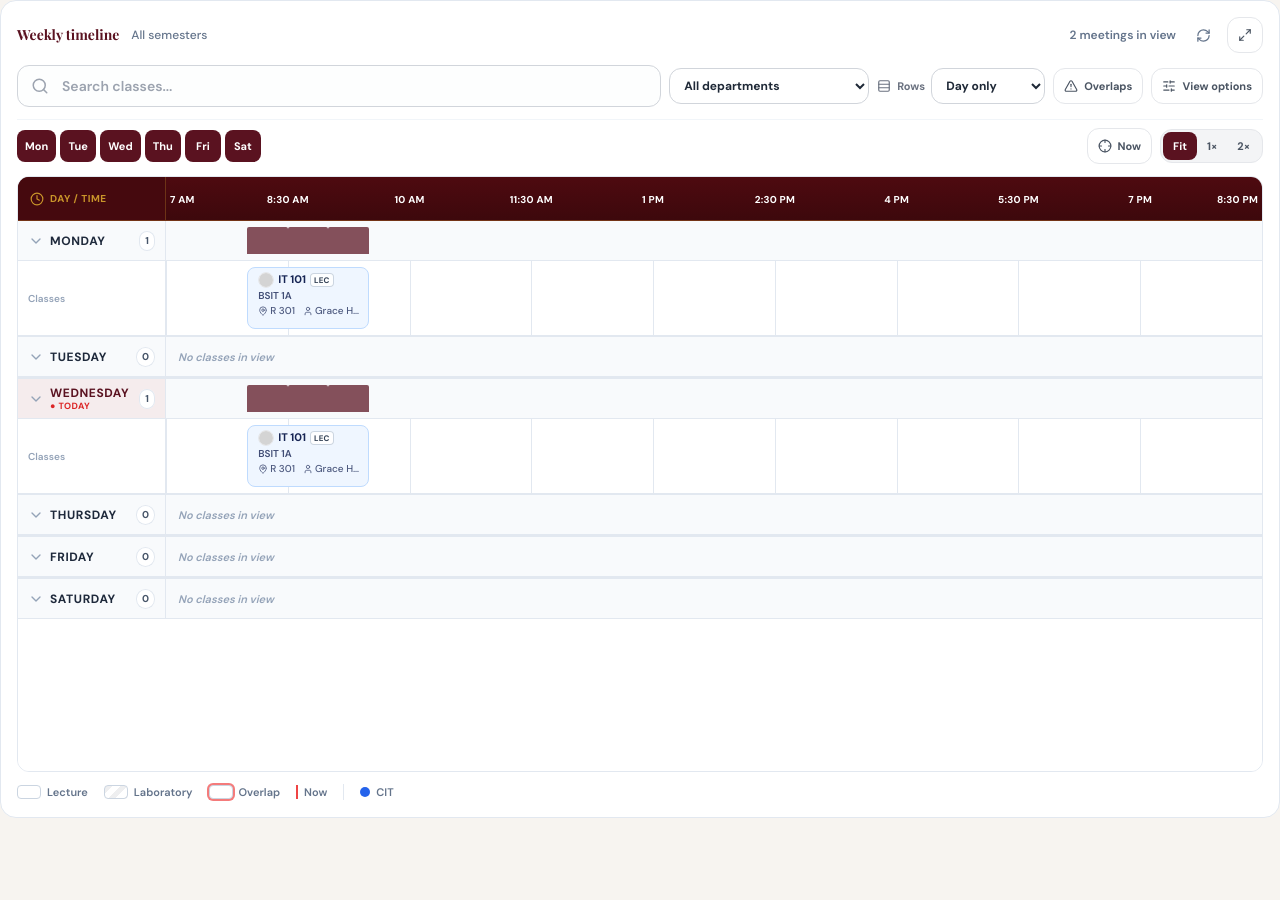
Test: VpaaCalendarPage Gantt timeline › opens the detail view with the other weekly meetings of the class
Click the 1st button "IT 101 Lec BSIT 1A R 301 Grace Hopper".
click(308, 298)  # box [247,267,369,329]
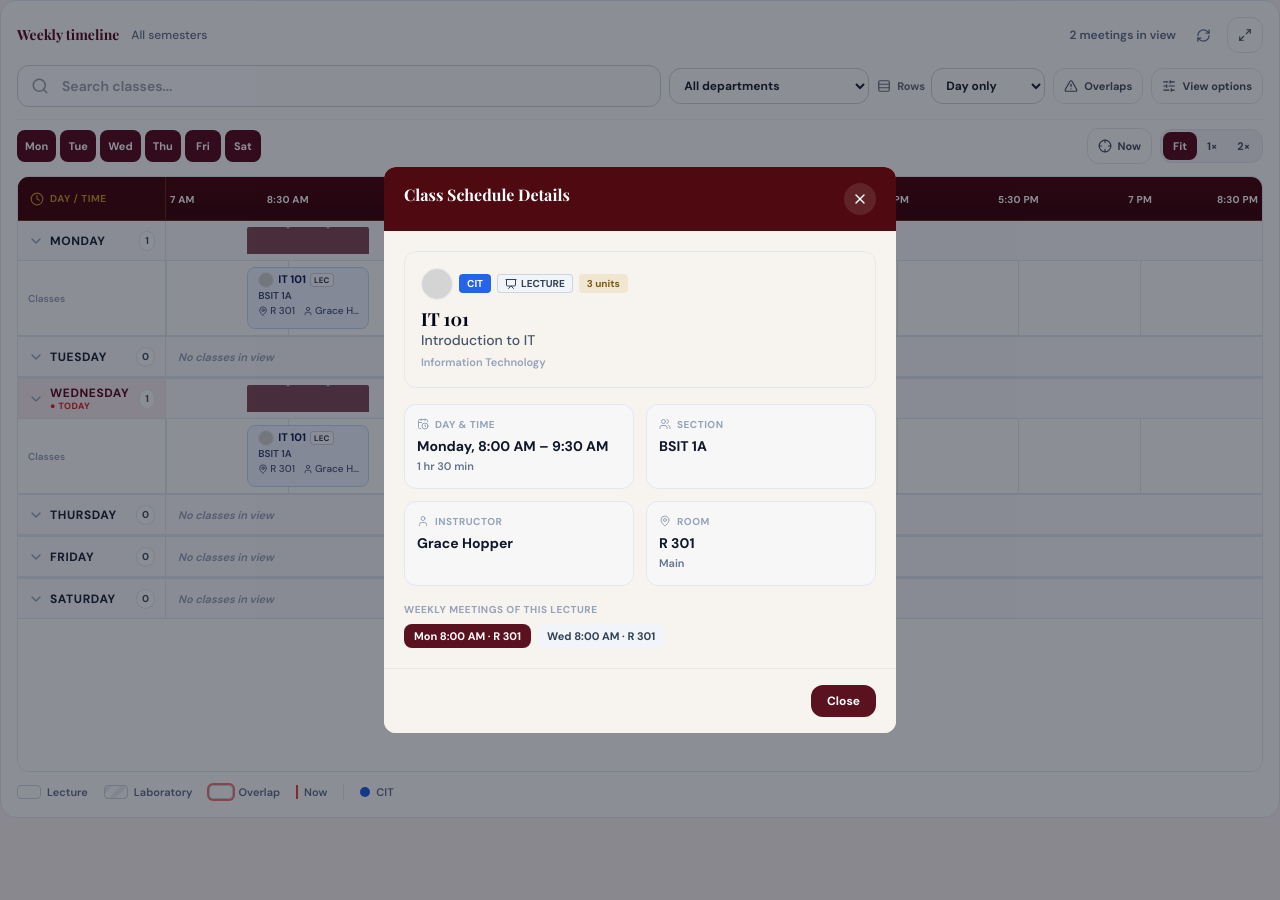
Now the text "Introduction to IT" is shown, box [421,331,535,349]
Now the heading "Weekly meetings of this lecture" is shown, box [404,603,598,616]
Now the button "Wed 8:00 AM · R 301" is shown, box [537,624,665,648]
